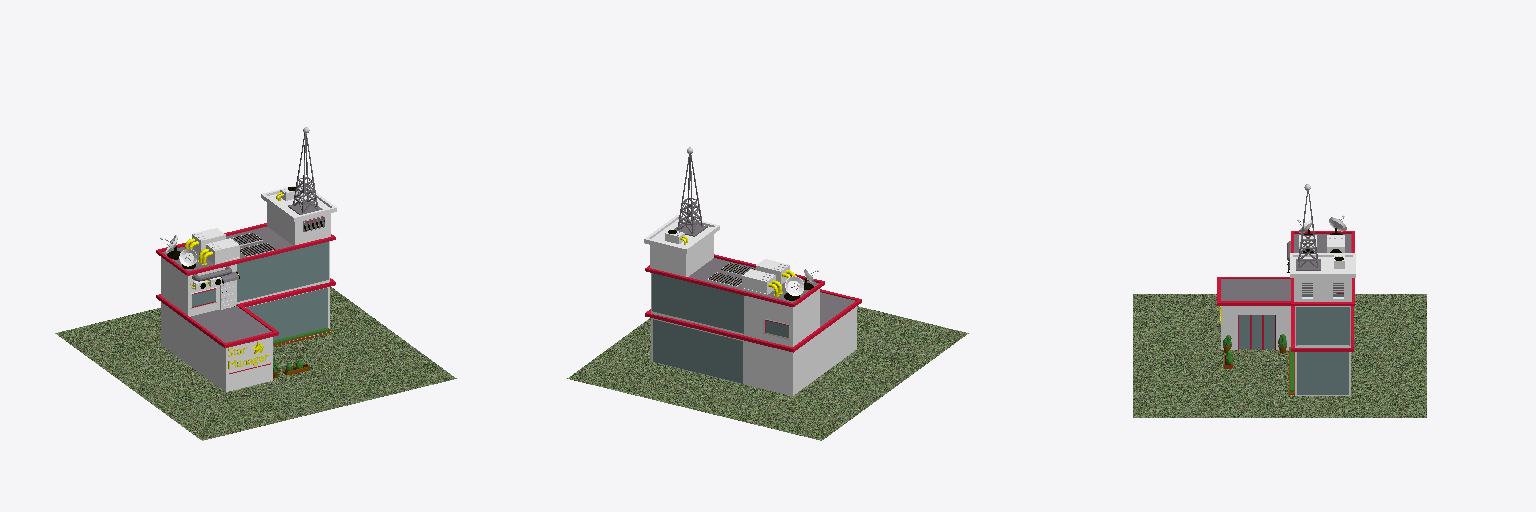
3 renders of one model, left to right at view 1: azimuth 30°, elevation 25°; view 2: azimuth 150°, elevation 25°; view 3: azimuth 270°, elevation 25°, orthographic.
Visible parts, largest first — view 1: Plane, Cube, Cube.011_Cube.013, Cube.006_Cube.005, Cube.008_Cube.010, Cube.059_Cube.006; view 2: Cube, Plane, Cube.011_Cube.013, Cube.059_Cube.006, Cube.008_Cube.010; view 3: Plane, Cube, Cube.011_Cube.013.
Boxes of the visible parts, box(x1,y1,x2,y2) form: Plane: box(55, 287, 456, 440); Cube: box(156, 223, 335, 391); Cube.011_Cube.013: box(261, 184, 336, 245); Cube.006_Cube.005: box(198, 238, 239, 264); Cube.008_Cube.010: box(293, 133, 317, 212); Cube.059_Cube.006: box(185, 228, 225, 252); Cube: box(645, 254, 861, 395); Plane: box(567, 306, 968, 440); Cube.011_Cube.013: box(644, 215, 719, 276); Cube.059_Cube.006: box(742, 269, 782, 296); Cube.008_Cube.010: box(677, 154, 702, 233); Plane: box(1133, 294, 1426, 417); Cube: box(1217, 231, 1354, 395); Cube.011_Cube.013: box(1290, 253, 1355, 301).
Bounding box in the file's own units: 18.27 × 14.09 × 18.27.
12 materials, 1 textured.